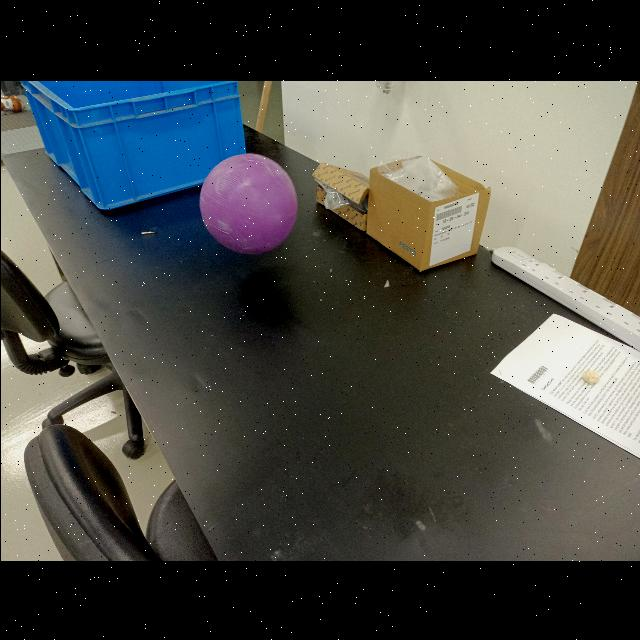P: (198, 151, 296, 253)
